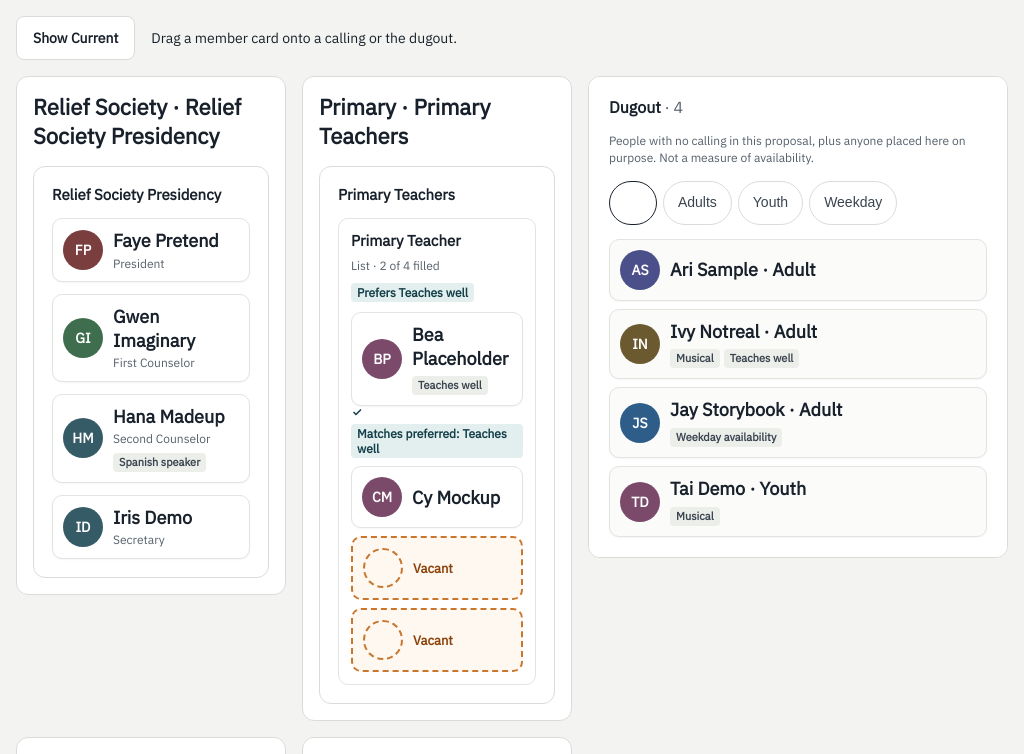
Scenario: dnd preview › applies a needs-approval move with its approval and keeps the moved-from group
Press the mouse on the element showing "CM Cy Mockup" at [437, 497], box [351,466,523,528]
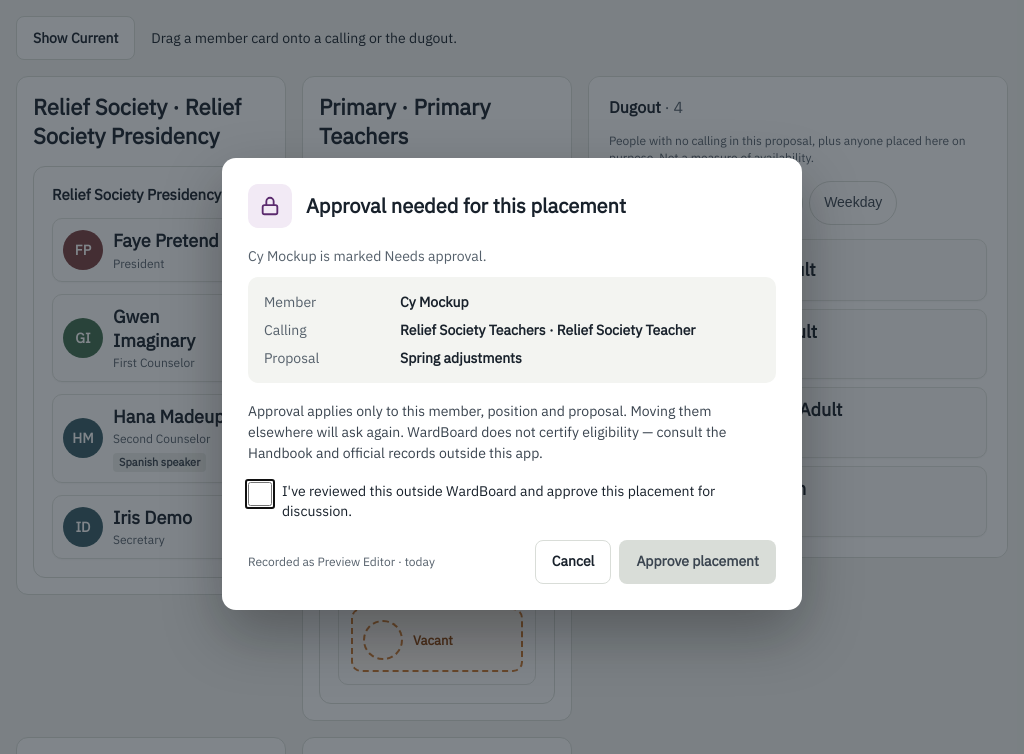
Click the checkbox.
click(260, 494)  # box [248,482,272,506]
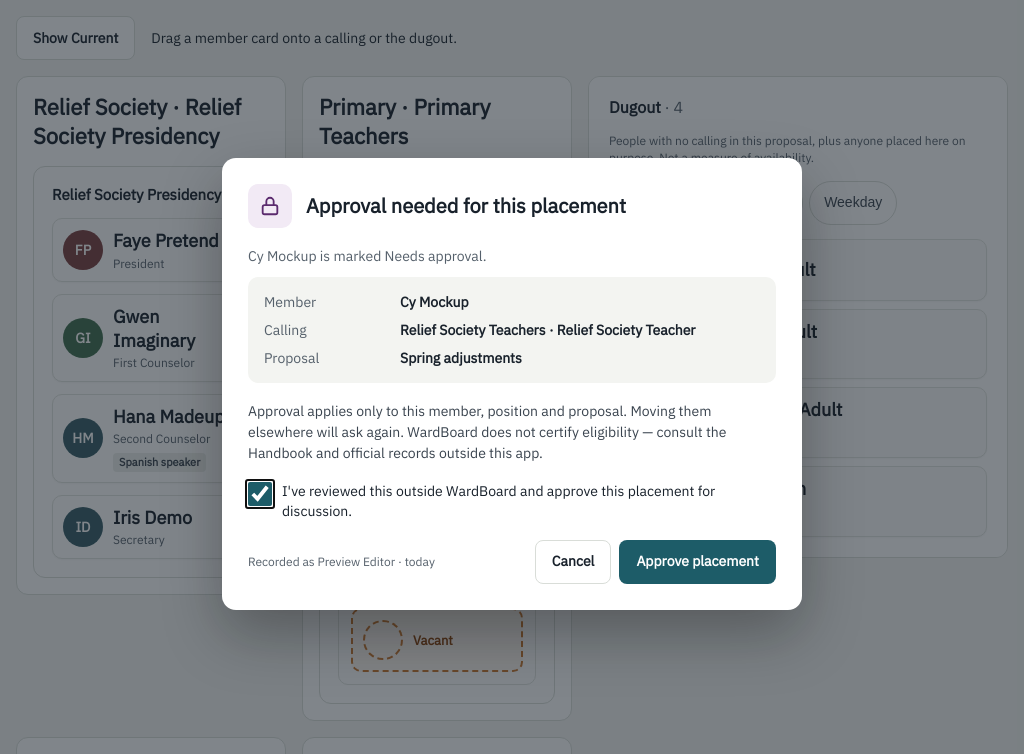
Click the button "Approve placement".
click(698, 562)  # box [619,540,776,584]
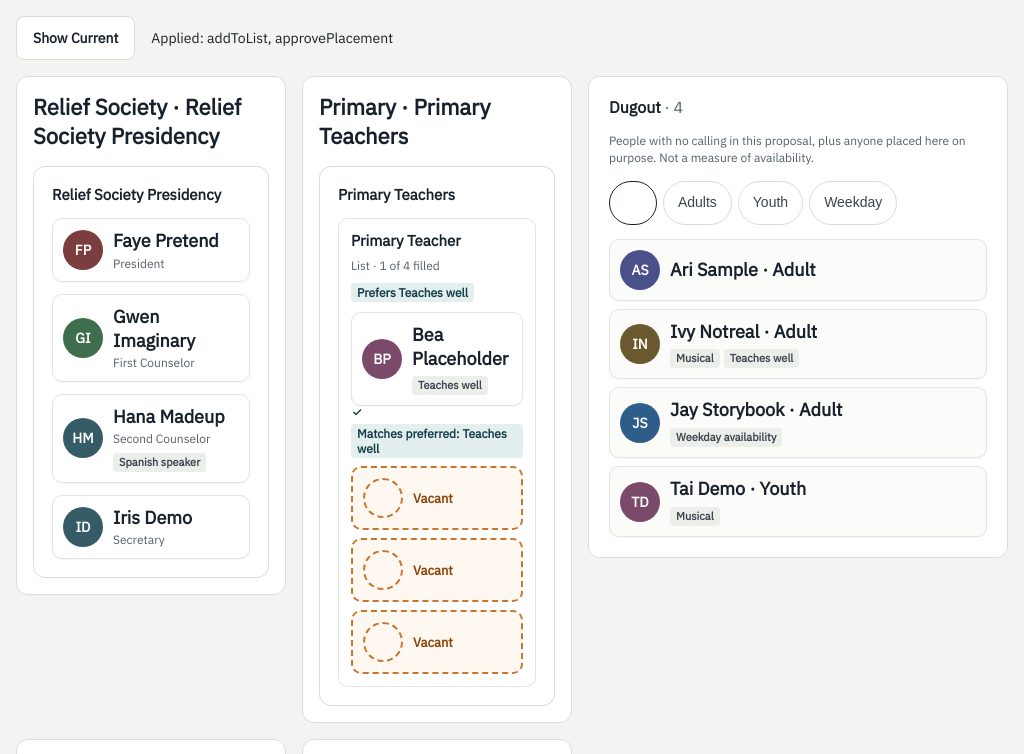
Expected: the list named "Primary Teacher" does not show "Cy Mockup", [351,312,523,674]
Result: the message reads "Applied: addToList, approvePlacement" at [151,29,393,47]
